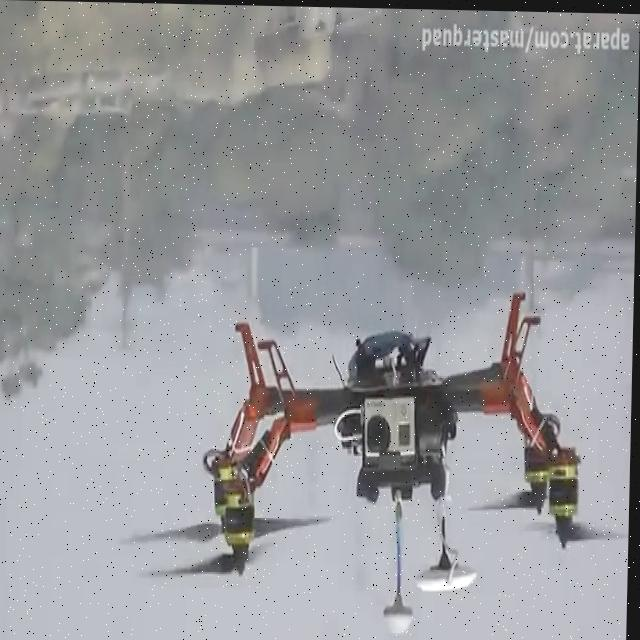drone: (117, 275, 635, 640)
